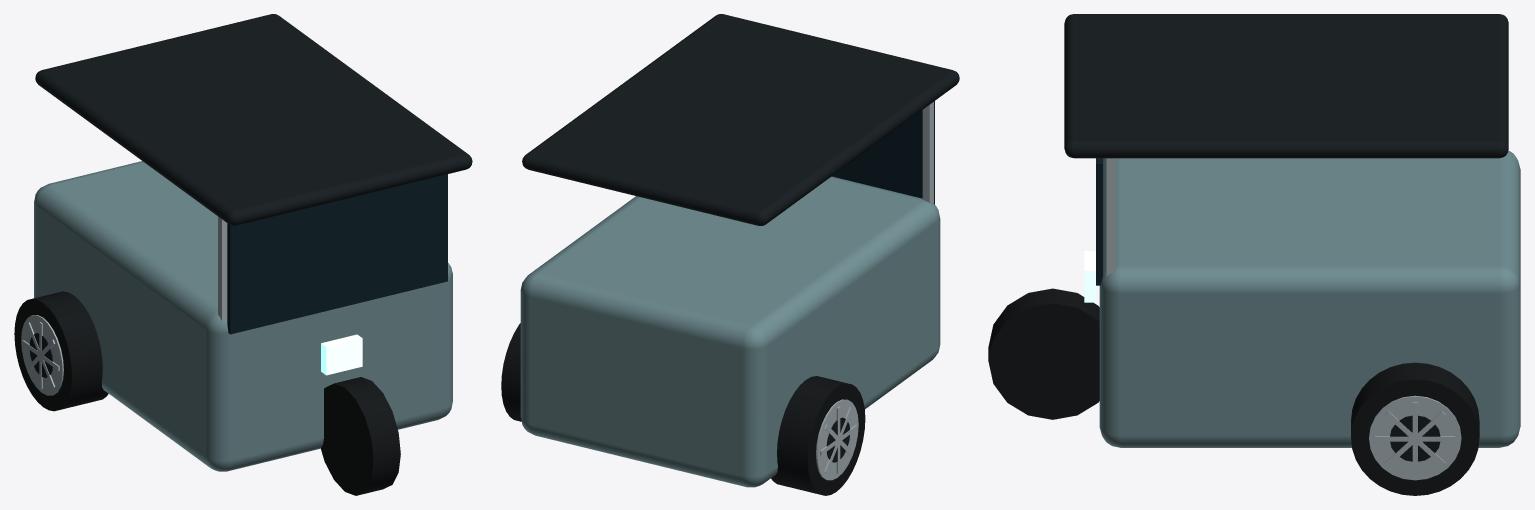
Rendered from rickshaw.glb.
The picture shows the model from 3 angles, left to right: view 1: azimuth 30°, elevation 25°; view 2: azimuth 150°, elevation 25°; view 3: azimuth 270°, elevation 25°; orthographic projection. The views are drawn at different scales.
Parts seen in each view (by area): view 1: Barak_rickshaw; view 2: Barak_rickshaw; view 3: Barak_rickshaw.
Boxes of the visible parts, x1,y1,x2,y2 form: Barak_rickshaw: (14, 14, 472, 495); Barak_rickshaw: (501, 14, 959, 495); Barak_rickshaw: (988, 14, 1520, 495).
Bounding box in the file's own units: 3.44 × 3.16 × 4.55.
